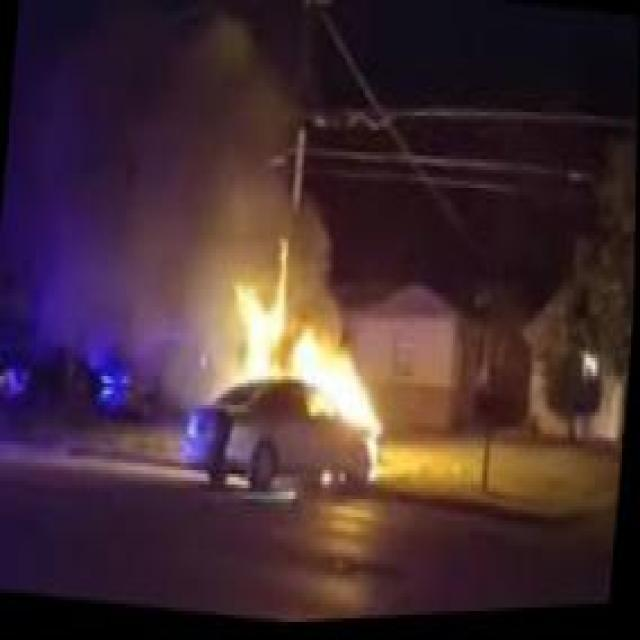Fire: (216, 267, 401, 510)
Smoke: (0, 0, 257, 380)
